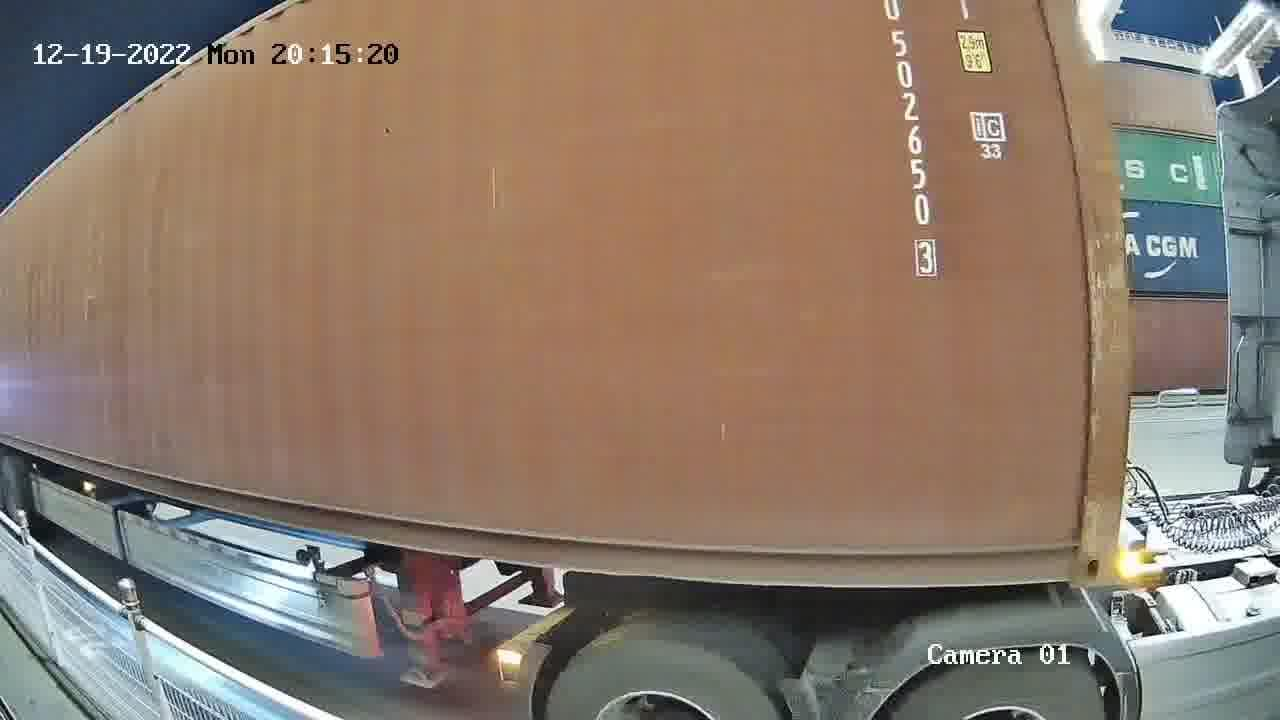Hole_R: (1022, 501, 1121, 585)
Tire: (547, 640, 775, 715), (893, 653, 1107, 717)
